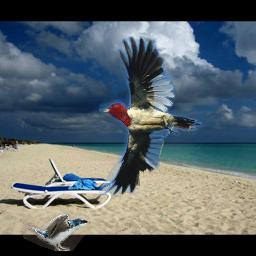Swallow: (20, 213, 91, 251)
Woodpecker: (99, 36, 202, 196)
